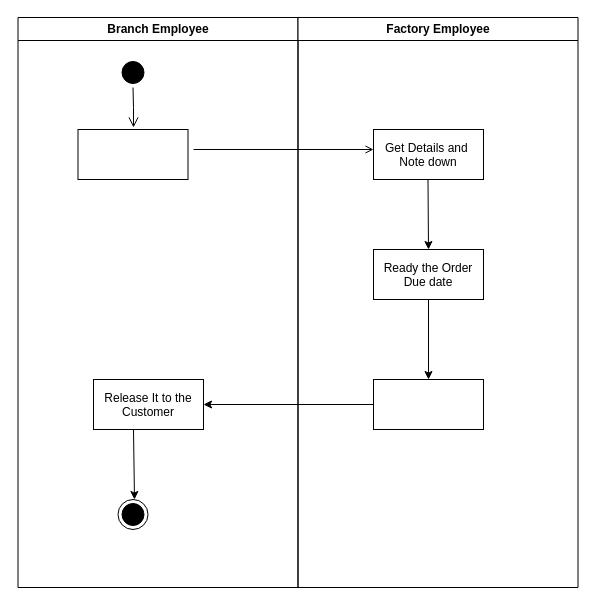
The diagram is 595 pixels wide and 605 high, and some of its shapes have lost their labels. Each missing label, with the centre of its shape:
"Send It to the Branch" goes at point (428, 404).
"Send the Details About Orders" goes at point (132, 154).
